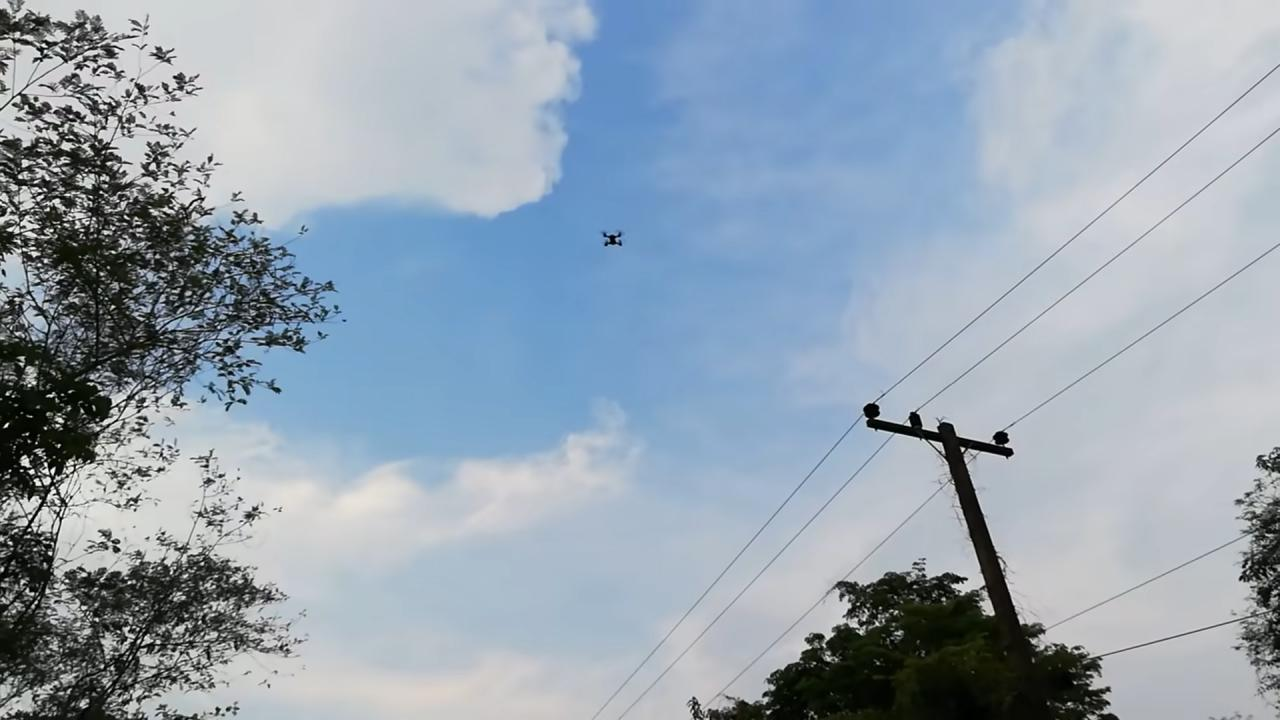Drone: (596, 222, 630, 255)
